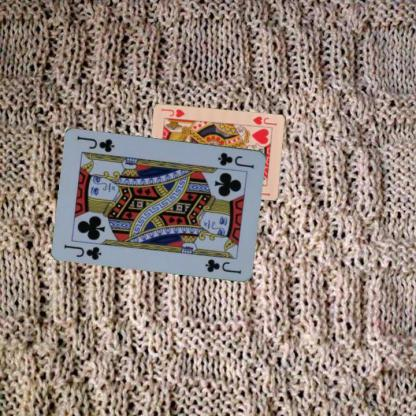Jc: (61, 242, 103, 261), (215, 150, 256, 169)
Jh: (250, 114, 278, 126)
